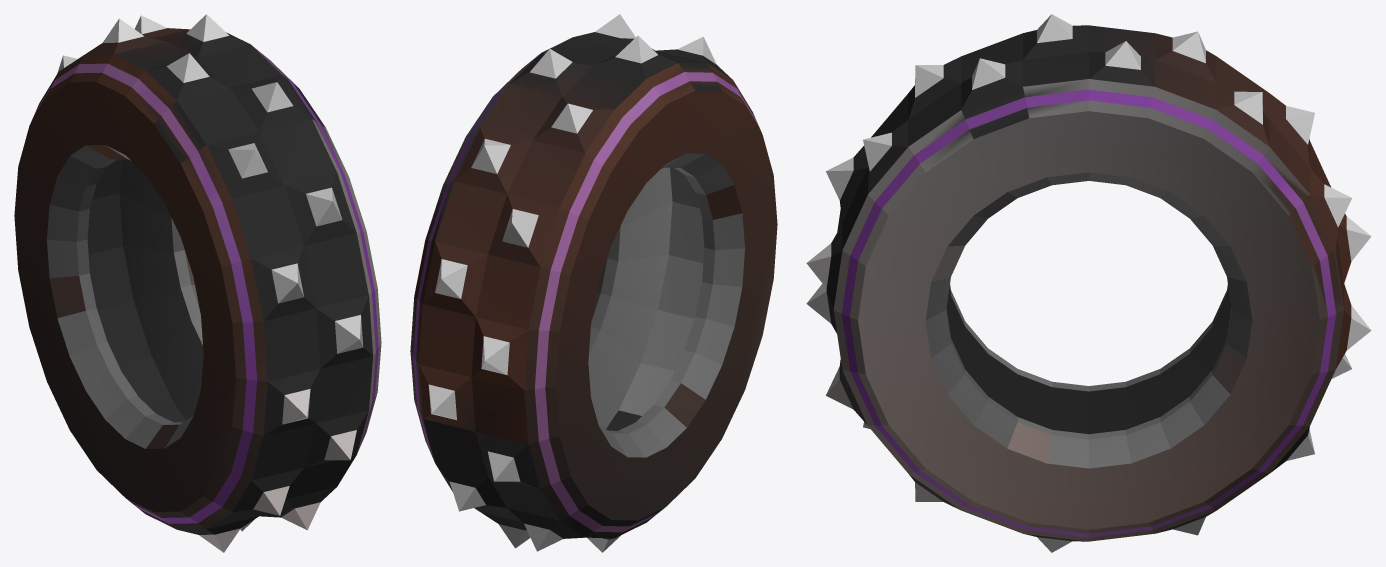
The model's file is TiresLvl5.fbx.
3 renders of one model, left to right at view 1: azimuth 30°, elevation 25°; view 2: azimuth 150°, elevation 25°; view 3: azimuth 270°, elevation 25°, orthographic. The views are drawn at different scales.
Visible parts, largest first — view 1: tires_lvl5; view 2: tires_lvl5; view 3: tires_lvl5.
Part boxes in pixels (x1,y1,x2,y2): tires_lvl5: (14, 14, 381, 552); tires_lvl5: (410, 14, 777, 552); tires_lvl5: (806, 14, 1371, 552).
Bounding box in the file's own units: 0.3428 × 1.11 × 1.11.
